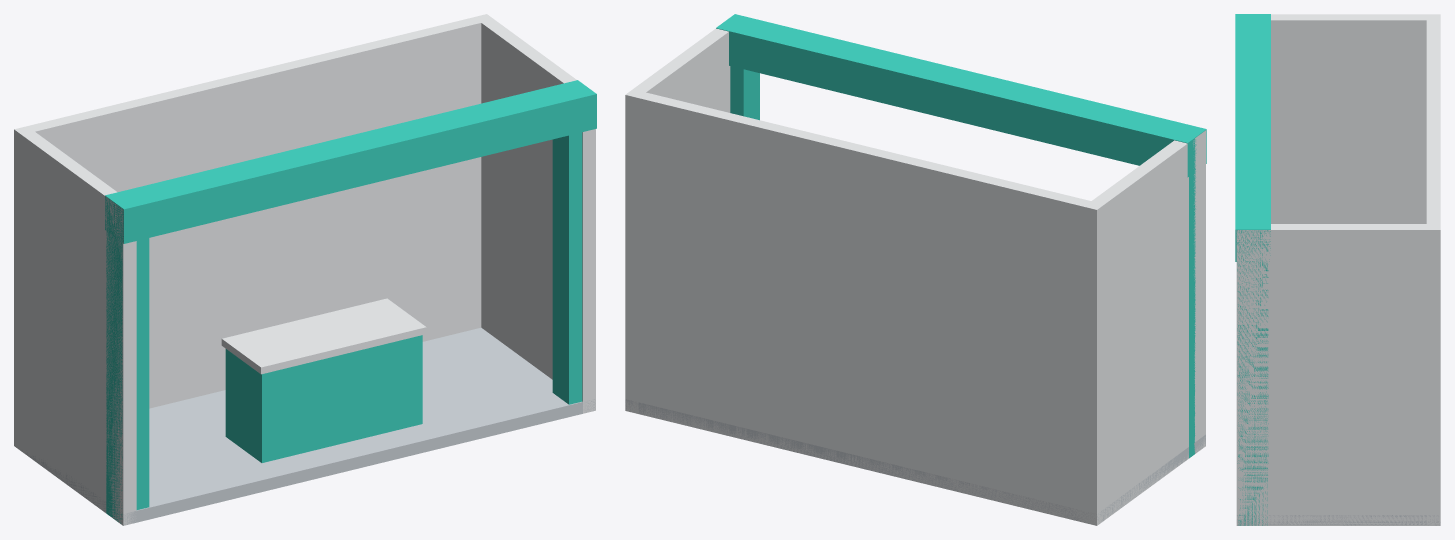
3 views of the same model, side by side, from view 1: azimuth 30°, elevation 25°; view 2: azimuth 150°, elevation 25°; view 3: azimuth 270°, elevation 25° (orthographic). The views are drawn at different scales.
Visible parts, largest first — view 1: Exhibition Booth Concept; view 2: Exhibition Booth Concept; view 3: Exhibition Booth Concept.
Boxes of the visible parts, x1,y1,x2,y2 form: Exhibition Booth Concept: [14, 14, 596, 525]; Exhibition Booth Concept: [625, 14, 1206, 525]; Exhibition Booth Concept: [1235, 14, 1440, 525].
Size of the model in its own units: 5 by 3.2 by 2.01.
